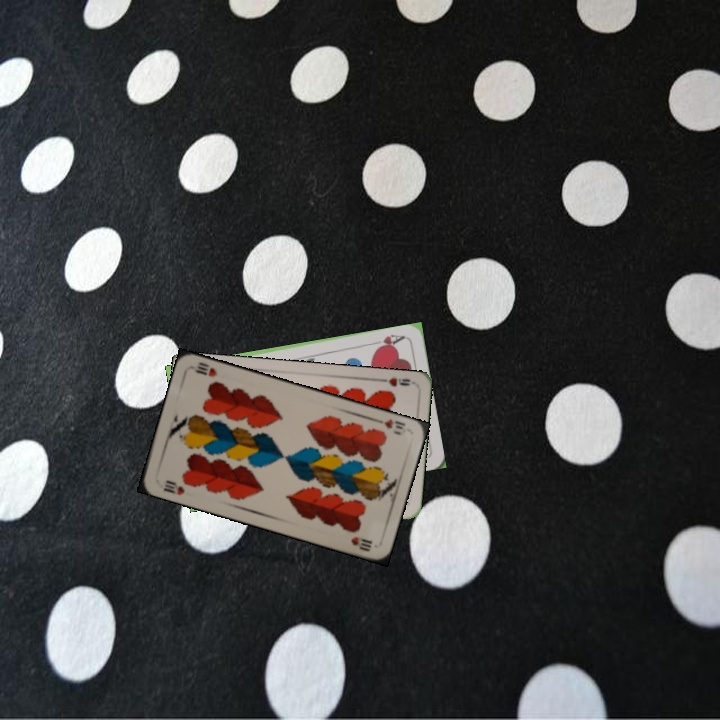H10: (371, 415, 408, 438), (159, 476, 187, 498)
H9: (375, 372, 413, 389)
HA: (368, 330, 408, 352)
